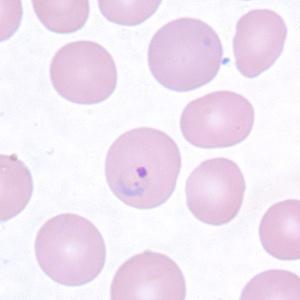Infected: (104, 128, 182, 209)
Uninfected: (147, 17, 222, 90), (33, 213, 107, 285), (50, 40, 119, 105), (179, 93, 254, 150), (186, 157, 246, 225), (232, 8, 288, 80), (110, 250, 185, 300), (258, 200, 300, 258)
